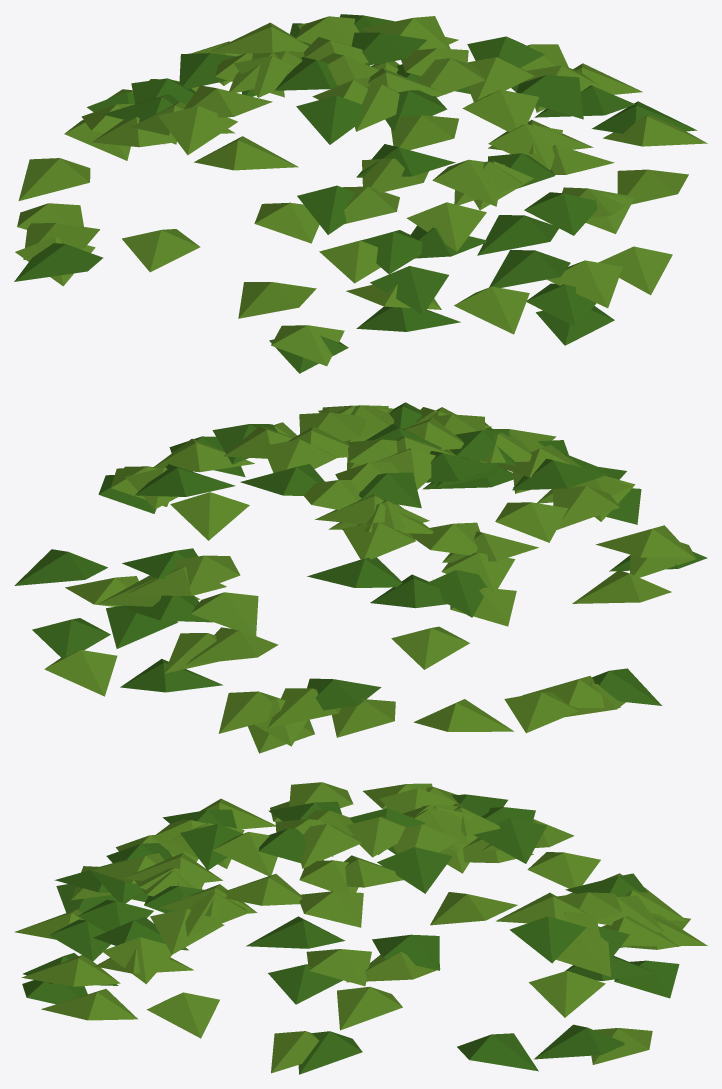
File: bed_shrub_3.obj
The picture shows the model from 3 angles, top to bottom: view 1: azimuth 30°, elevation 25°; view 2: azimuth 150°, elevation 25°; view 3: azimuth 270°, elevation 25°; orthographic projection. The views are drawn at different scales.
Visible parts, largest first — view 1: bed_shrub_3; view 2: bed_shrub_3; view 3: bed_shrub_3.
Boxes of the visible parts, <box> form: bed_shrub_3: <box>14,14,707,373</box>; bed_shrub_3: <box>14,402,707,753</box>; bed_shrub_3: <box>14,782,707,1074</box>.
Size of the model in its own units: 3.54 by 0.887 by 3.58.
